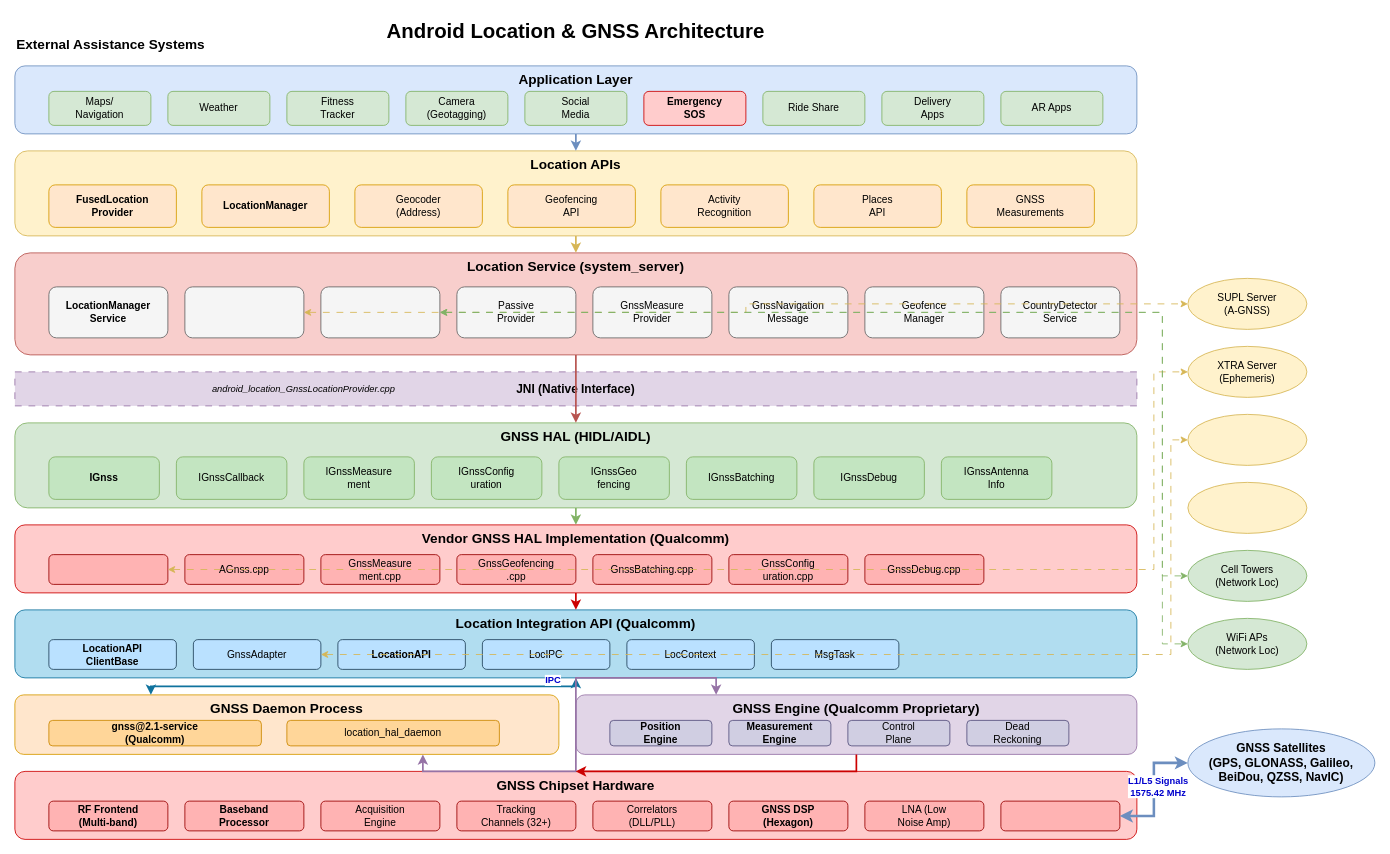
The diagram is 1390 pixels wide and 854 high, and some of its shapes have lost their labels. The shapes that lost their labels are listed below. From the top down, each one's centre as x and y in pixels, then its label:
At point 244,312: "GnssLocation Provider".
At point 380,312: "NetworkLocation Provider".
At point 1247,439: "NTP Server (Time)".
At point 1247,507: "PSDS (Google)".
At point 108,569: "Gnss.cpp".
At point 1060,815: "GNSS Antenna".
